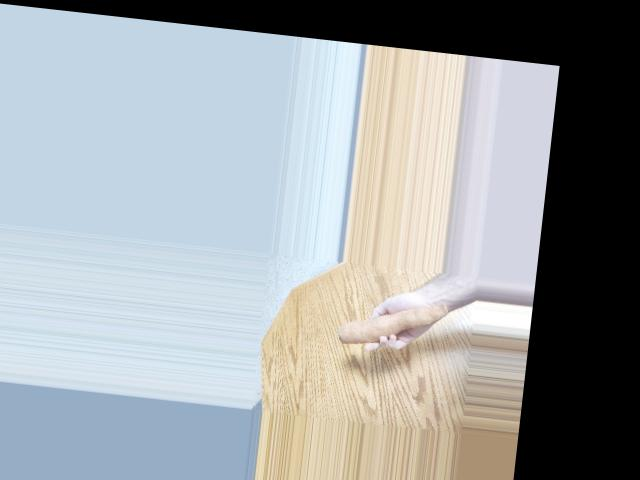sweet_potato: (335, 289, 450, 356)
